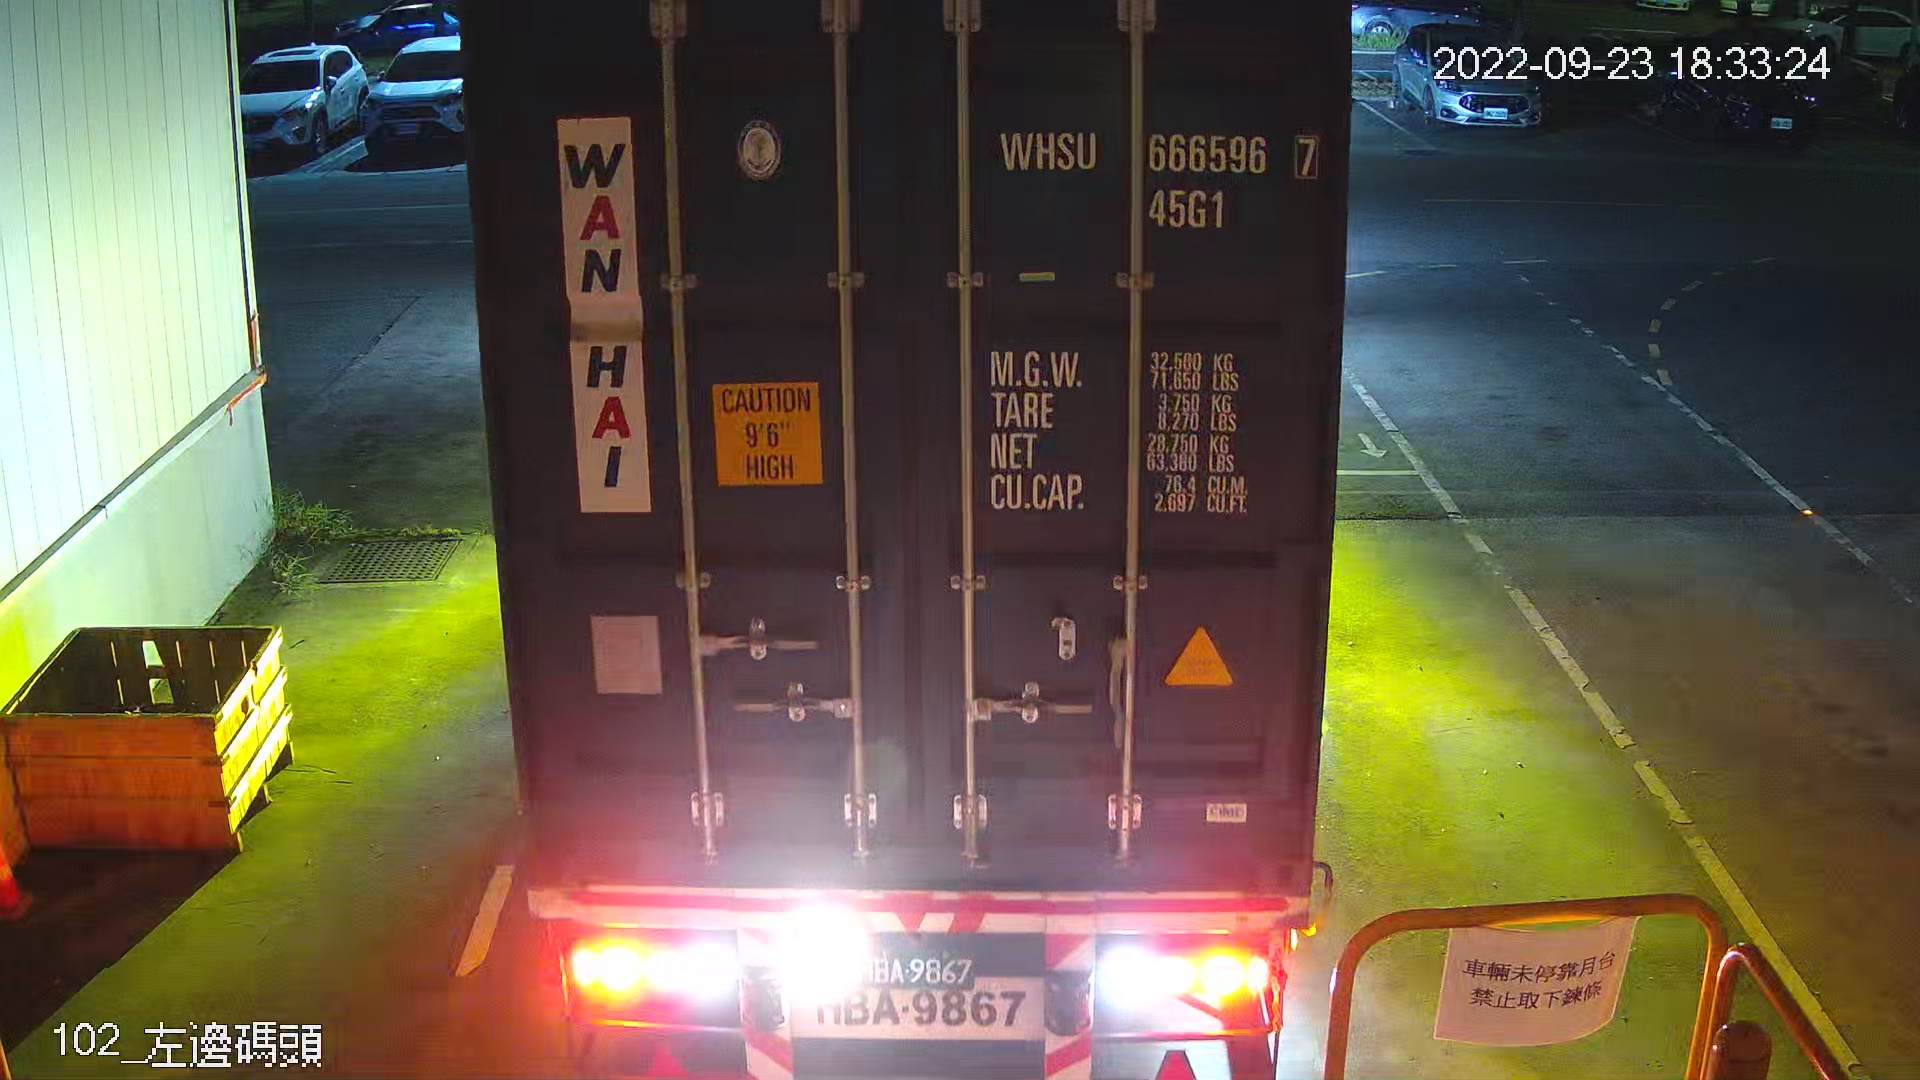container: (982, 104, 1332, 241)
